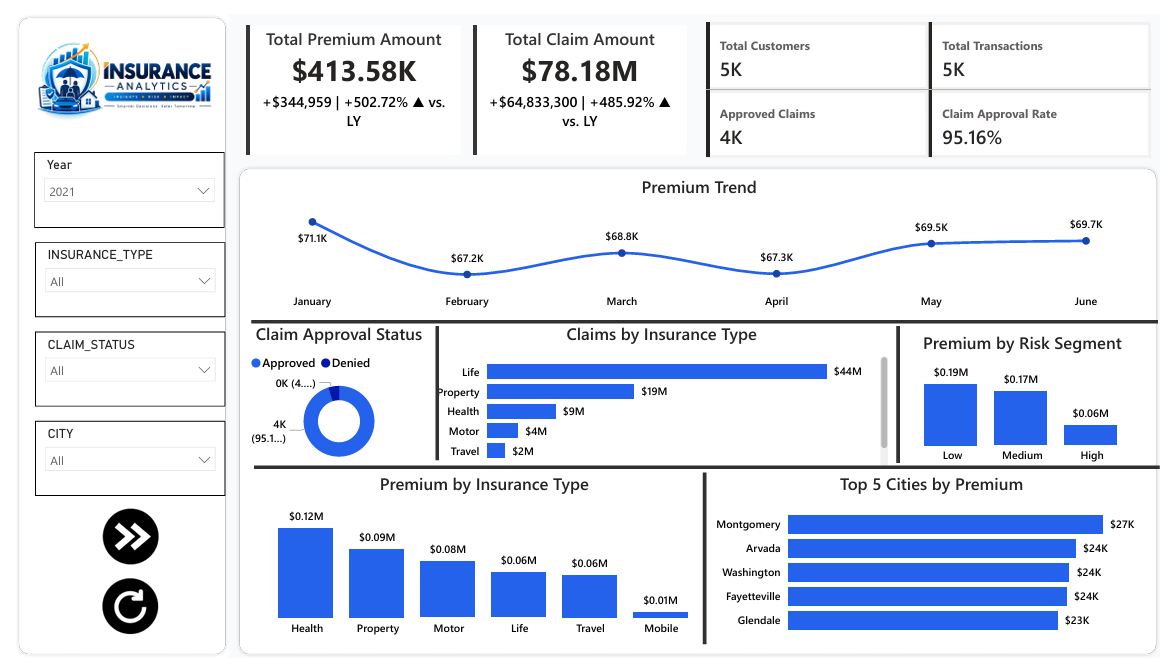

The page's visual inventory and layout, read from the dashboard file:
{"tool":"powerbi","page":{"name":"Executive Overview","canvas":[1280,720],"ordinal":0},"visuals":[{"type":"cardVisual","fields":{"Data":["Measures .Total Customers","Measures .Total Transactions","Measures .Approved Claims","Measures .Claim Approval Rate"]},"box":[763.7,0,516.4,168.9],"z":0},{"type":"shape","box":[0,0,238.9,720.2],"z":1000},{"type":"shape","box":[247.3,168.9,1032.7,551.3],"z":2000},{"type":"lineChart","title":"Premium Trend","fields":{"Y":["Measures .Total Premium Amount"],"Category":["Date Table.Month Name"]},"box":[258.2,179.8,1013.4,159.2],"z":3000},{"type":"columnChart","title":"Premium by Insurance Type","fields":{"Y":["Measures .Total Premium Amount"],"Category":["Insurance.INSURANCE_TYPE"]},"box":[258.2,511.5,533.2,193],"z":4000},{"type":"barChart","title":"Claims by Insurance Type","fields":{"Category":["Insurance.INSURANCE_TYPE"],"Y":["Measures .Total Claim Amount"]},"box":[465.3,344.7,515.8,167.4],"z":5000},{"type":"donutChart","title":"Claim Approval Status","fields":{"Category":["Insurance.CLAIM_STATUS"],"Y":["Measures .Total Transactions"]},"box":[258.2,345,207.5,166.5],"z":6000},{"type":"barChart","title":"Top 5 Cities by Premium","fields":{"Category":["Insurance.CITY"],"Y":["Measures .Total Premium Amount"]},"box":[778.4,511.9,493.2,193],"z":7000},{"type":"columnChart","title":"Premium by Risk Segment","fields":{"Category":["Insurance.RISK_SEGMENTATION"],"Y":["Measures .Total Premium Amount"]},"box":[981.1,354.5,290.5,157.6],"z":8000},{"type":"slicer","fields":{"Values":["Date Table.Year"]},"box":[20.5,154.4,213.5,84.5],"z":9000},{"type":"slicer","fields":{"Values":["Insurance.INSURANCE_TYPE"]},"box":[21.7,254.6,213.5,84.5],"z":10000},{"type":"slicer","fields":{"Values":["Insurance.CLAIM_STATUS"]},"box":[21.7,354.7,213.5,84.5],"z":11000},{"type":"slicer","fields":{"Values":["Insurance.CITY"]},"box":[21.7,454.8,213.5,84.5],"z":12000},{"type":"image","box":[8.8,5,226.2,141.2],"z":13000},{"type":"shape","box":[465.8,348.7,12.4,150.7],"z":14000},{"type":"shape","box":[266.5,501.9,1013.7,10],"z":15000},{"type":"shape","box":[264,338.7,1013.7,10],"z":16000},{"type":"shape","box":[981.4,348.7,12.4,153.2],"z":17000},{"type":"shape","box":[764.7,513.1,12.4,191.8],"z":18000},{"type":"cardVisual","fields":{"Data":["Measures .Total Premium Amount","Measures .Total Claim Amount"]},"box":[247.3,0,516.4,168.9],"z":19000},{"type":"actionButton","box":[91.7,548.9,74.8,71.2],"z":20000},{"type":"actionButton","box":[86.9,620.1,83.2,84.5],"z":21000}]}

Visuals, with their boxes in screenshot pixels (x1, y1, x2, y2), scaled from the page's 1280x720 canvas onto the 1172x672 screenshot:
cardVisual - Measures .Total Customers x Measures .Total Transactions: bbox=(699, 0, 1171, 158)
shape: bbox=(0, 0, 219, 671)
shape: bbox=(226, 158, 1171, 671)
"Premium Trend" lineChart: bbox=(236, 168, 1164, 316)
"Premium by Insurance Type" columnChart: bbox=(236, 477, 725, 658)
"Claims by Insurance Type" barChart: bbox=(426, 322, 898, 478)
"Claim Approval Status" donutChart: bbox=(236, 322, 426, 477)
"Top 5 Cities by Premium" barChart: bbox=(713, 478, 1164, 658)
"Premium by Risk Segment" columnChart: bbox=(898, 331, 1164, 478)
slicer - Date Table.Year: bbox=(19, 144, 214, 223)
slicer - Insurance.INSURANCE_TYPE: bbox=(20, 238, 215, 316)
slicer - Insurance.CLAIM_STATUS: bbox=(20, 331, 215, 410)
slicer - Insurance.CITY: bbox=(20, 424, 215, 503)
image: bbox=(8, 5, 215, 136)
shape: bbox=(426, 325, 438, 466)
shape: bbox=(244, 468, 1171, 478)
shape: bbox=(242, 316, 1170, 325)
shape: bbox=(899, 325, 910, 468)
shape: bbox=(700, 479, 712, 658)
cardVisual - Measures .Total Premium Amount x Measures .Total Claim Amount: bbox=(226, 0, 699, 158)
actionButton: bbox=(84, 512, 152, 579)
actionButton: bbox=(80, 579, 156, 658)
